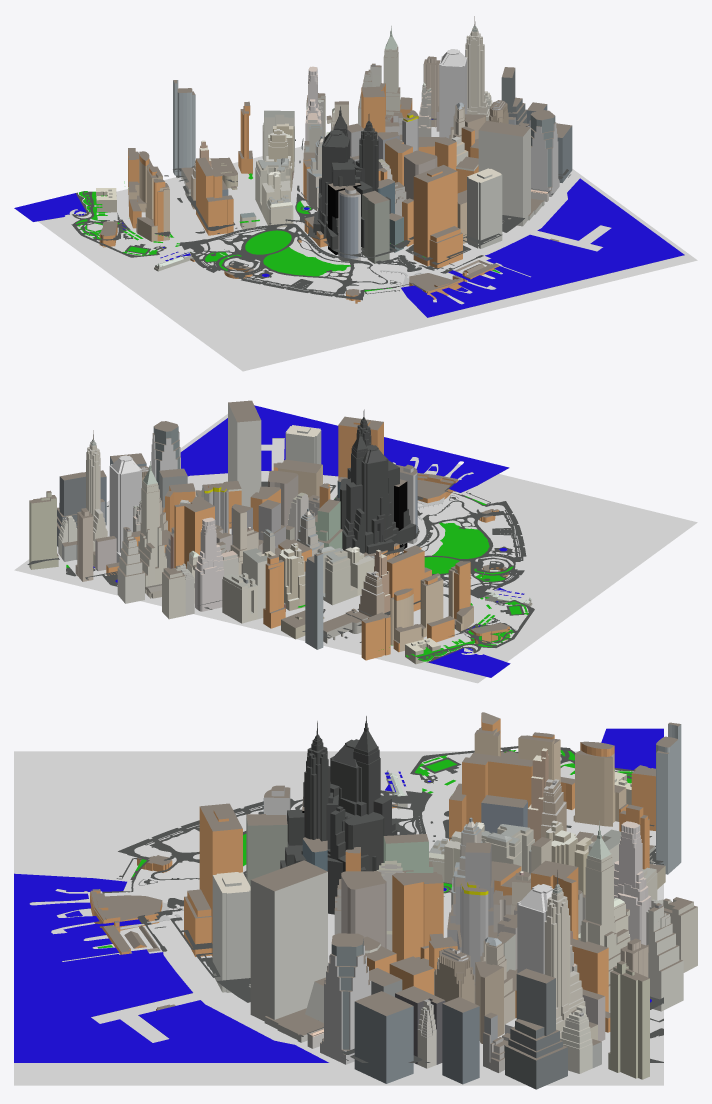
File: citymap.glb
3 renders of one model, top to bottom at view 1: azimuth 30°, elevation 25°; view 2: azimuth 150°, elevation 25°; view 3: azimuth 270°, elevation 25°, orthographic. The views are drawn at different scales.
Visible parts, largest first — view 1: Terrain.001, element.216, 55 Water Street, One New York Plaza, element.195, 125 Broad Street, One Financial Square, element.103, 50 West Street, One State Street Plaza, element.104, element.009 (+31 smaller); view 2: Terrain.001, element.216, 55 Water Street, element.179, element.103, element.020, element.195, element.326, element.092, 50 West Street, Cunard Building, element.023 (+50 smaller); view 3: Terrain.001, element.216, 55 Water Street, element.114, 111 Wall Street, One Financial Square, element.092, 125 Broad Street, element.051, element.020, The Visionaire, 50 West Street (+58 smaller).
Boxes of the visible parts, left/top/right/bottom form: Terrain.001: left=38, top=127, right=697, bottom=371; element.216: left=401, top=178, right=684, bottom=317; 55 Water Street: left=478, top=121, right=544, bottom=226; One New York Plaza: left=413, top=165, right=457, bottom=266; element.195: left=193, top=223, right=387, bottom=300; 125 Broad Street: left=467, top=168, right=502, bottom=248; One Financial Square: left=529, top=110, right=559, bottom=196; element.103: left=431, top=49, right=467, bottom=138; 50 West Street: left=173, top=80, right=195, bottom=175; One State Street Plaza: left=362, top=190, right=389, bottom=263; element.104: left=465, top=16, right=489, bottom=120; element.009: left=338, top=186, right=360, bottom=262; Terrain.001: left=14, top=414, right=697, bottom=683; element.216: left=180, top=405, right=509, bottom=492; 55 Water Street: left=196, top=400, right=261, bottom=507; element.179: left=195, top=517, right=238, bottom=611; element.103: left=109, top=455, right=141, bottom=562; element.020: left=138, top=461, right=166, bottom=592; element.195: left=393, top=500, right=526, bottom=587; element.326: left=361, top=444, right=393, bottom=554; element.092: left=29, top=490, right=58, bottom=569; 50 West Street: left=305, top=553, right=323, bottom=649; Cunard Building: left=315, top=546, right=357, bottom=605; element.023: left=117, top=527, right=144, bottom=603; Terrain.001: left=14, top=751, right=663, bottom=1085; element.216: left=14, top=873, right=328, bottom=1062; 55 Water Street: left=250, top=860, right=327, bottom=1042; element.114: left=505, top=968, right=567, bottom=1089; 111 Wall Street: left=354, top=991, right=413, bottom=1083; One Financial Square: left=320, top=933, right=371, bottom=1064; element.092: left=608, top=961, right=649, bottom=1079; 125 Broad Street: left=212, top=872, right=250, bottom=992; element.051: left=392, top=872, right=443, bottom=961; element.020: left=580, top=821, right=630, bottom=1011; The Visionaire: left=573, top=741, right=628, bottom=826; 50 West Street: left=656, top=722, right=681, bottom=874.
Bounding box in the file's own units: 1156 × 310 × 960.
